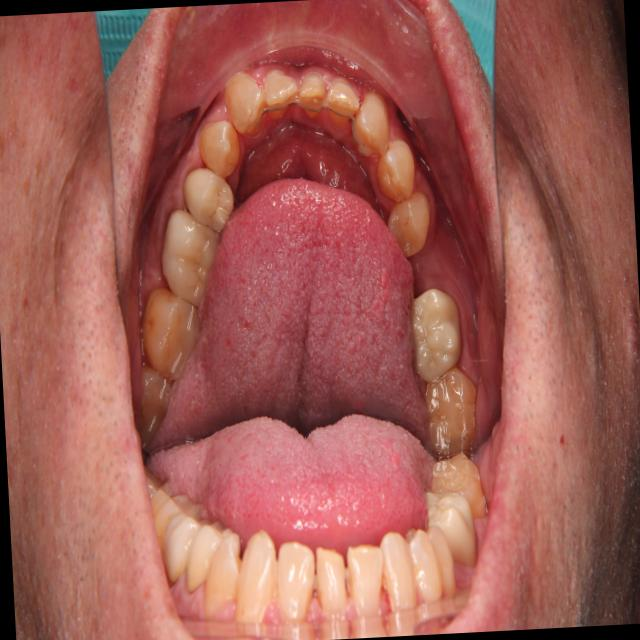tooth: (135, 282, 208, 389), (157, 202, 227, 308), (404, 286, 467, 386), (422, 361, 484, 461), (181, 161, 243, 237), (132, 359, 179, 455), (191, 111, 248, 182), (346, 83, 395, 163), (383, 190, 437, 262), (222, 67, 271, 146), (370, 134, 420, 206), (262, 59, 303, 132), (322, 73, 365, 136), (295, 65, 332, 127)
